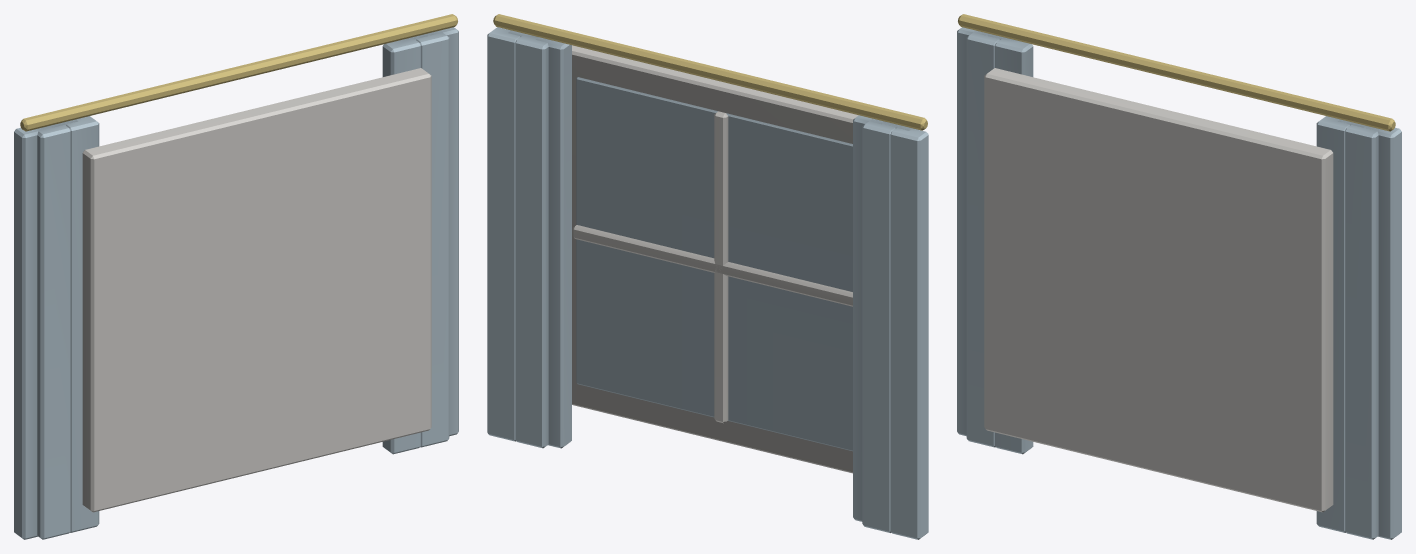
Rendered from furn_curtain_window__sky.glb.
3 renders of one model, left to right at view 1: azimuth 30°, elevation 25°; view 2: azimuth 150°, elevation 25°; view 3: azimuth 330°, elevation 25°, orthographic.
Size of the model in its own units: 1.41 by 1.29 by 0.175.
